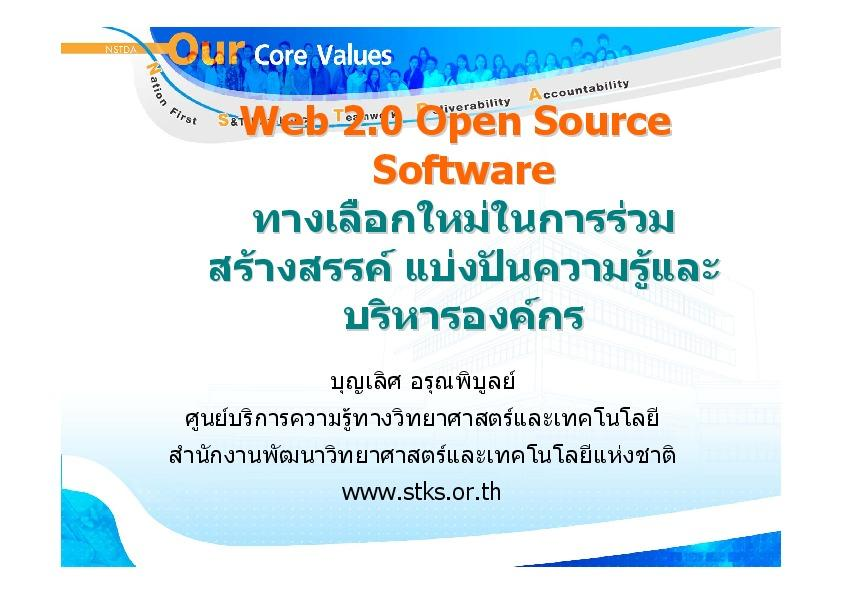subtitle: (178, 193, 759, 355), (158, 365, 744, 517)
title: (227, 90, 695, 193)
